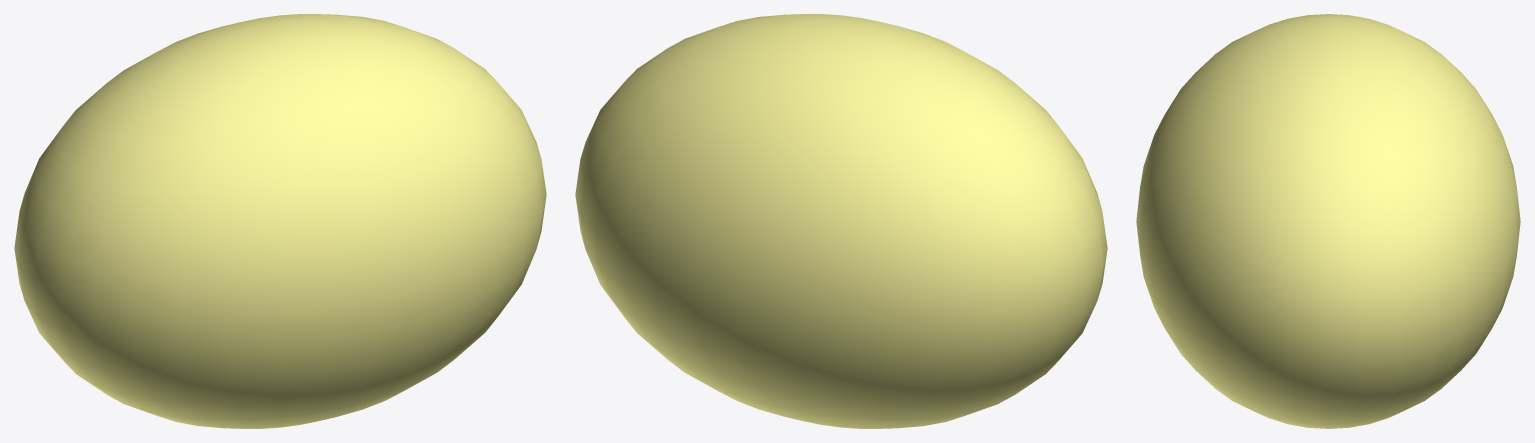
The picture shows the model from 3 angles, left to right: view 1: azimuth 30°, elevation 25°; view 2: azimuth 150°, elevation 25°; view 3: azimuth 270°, elevation 25°; orthographic projection. The views are drawn at different scales.
Visible parts, largest first — view 1: item; view 2: item; view 3: item.
Part boxes in pixels (<box>): item: <box>14,14,546,428</box>; item: <box>575,14,1107,428</box>; item: <box>1136,14,1520,428</box>.
Bounding box in the file's own units: 0.00954 × 0.00687 × 0.00687.
